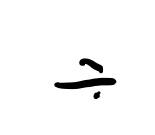div: (54, 58, 117, 99)
